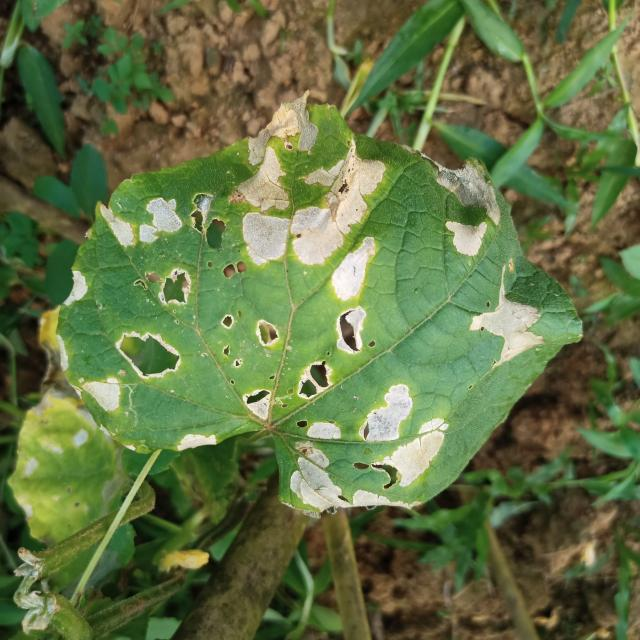disease_cucumber: (64, 96, 548, 518)
